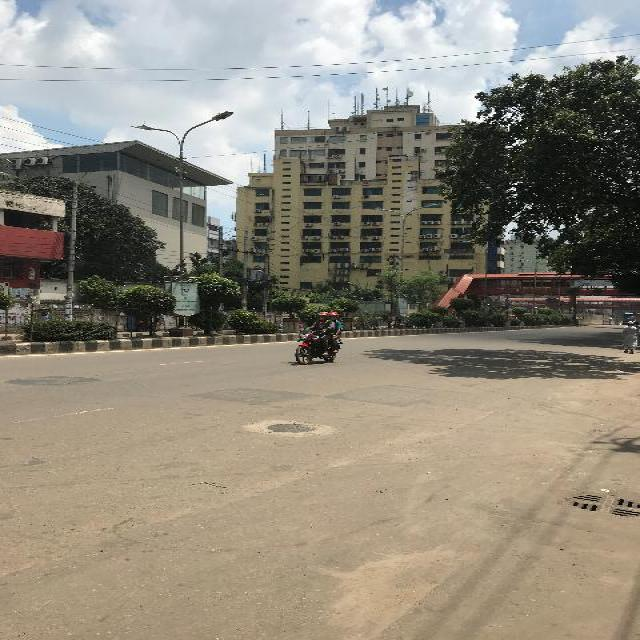bike: (293, 312, 344, 367)
vehicle: (622, 313, 636, 326)
